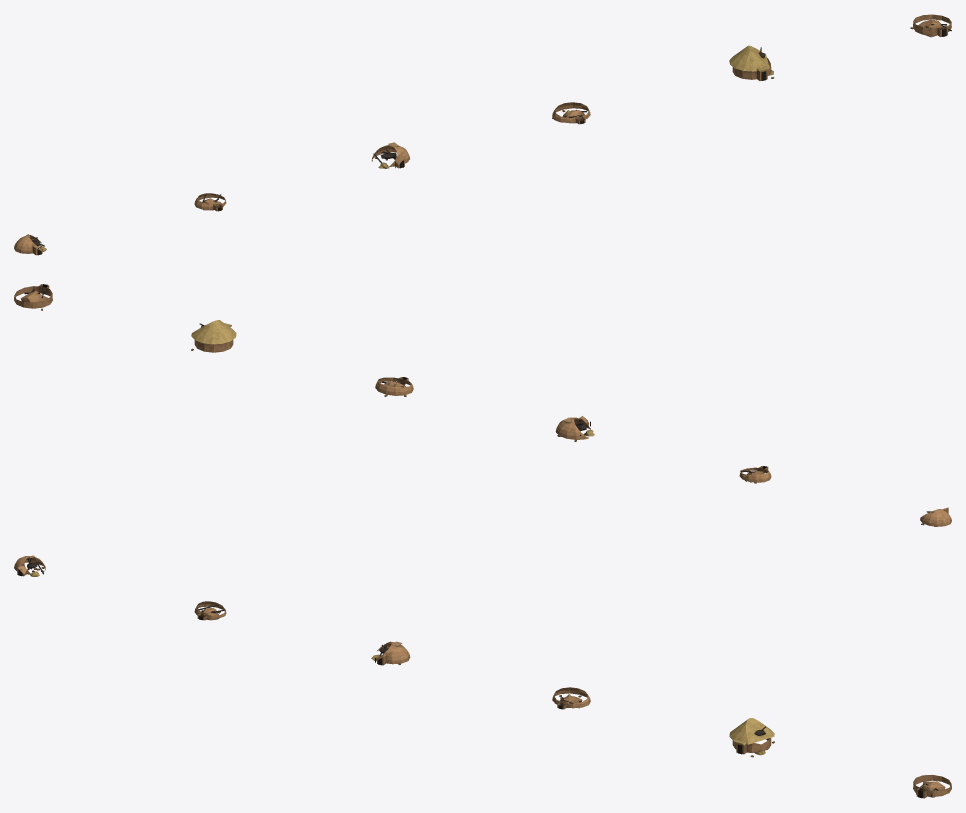
File: stone-eastafrica-houses-damage.glb
3 renders of one model, top to bottom at view 1: azimuth 30°, elevation 25°; view 2: azimuth 150°, elevation 25°; view 3: azimuth 330°, elevation 25°, orthographic.
Visible parts, largest first — view 1: LOD0.004, LOD0.005, LOD0.002, LOD0.003; view 2: LOD0.004, LOD0.005, LOD0.002, LOD0.003; view 3: LOD0.004, LOD0.005, LOD0.002, LOD0.003.
Part boxes in pixels (x1,y1,x2,y2): LOD0.004: (729, 45, 774, 80); LOD0.005: (910, 14, 951, 37); LOD0.002: (371, 142, 409, 168); LOD0.003: (552, 102, 590, 124); LOD0.004: (191, 320, 236, 352); LOD0.005: (14, 284, 52, 310); LOD0.002: (555, 416, 594, 441); LOD0.003: (375, 377, 413, 396); LOD0.004: (729, 718, 774, 757); LOD0.005: (913, 774, 951, 798); LOD0.002: (371, 641, 410, 665); LOD0.003: (552, 687, 590, 709).
Size of what is drawn, in the model's own units: 15.52 by 0.4346 by 0.7004.
1 material, 1 textured.
